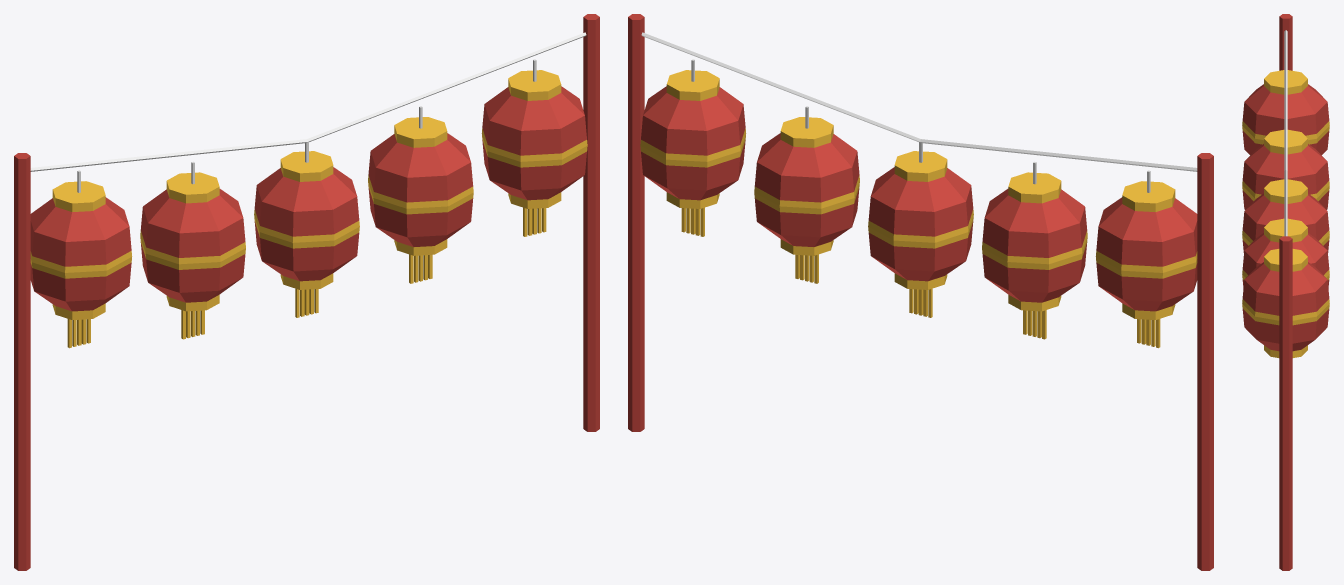
File: LanternString.fbx
The picture shows the model from 3 angles, left to right: view 1: azimuth 30°, elevation 25°; view 2: azimuth 150°, elevation 25°; view 3: azimuth 270°, elevation 25°; orthographic projection. The views are drawn at different scales.
Parts seen in each view (by area): view 1: LanternString; view 2: LanternString; view 3: LanternString.
Part boxes in pixels (left/top/right/bottom): LanternString: left=14, top=14, right=599, bottom=570; LanternString: left=628, top=14, right=1213, bottom=570; LanternString: left=1242, top=14, right=1329, bottom=570.
Size of the model in its own units: 12.26 by 8.3 by 2.
1 material, 1 textured.
